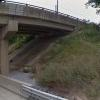Bridge: (9, 0, 80, 45)
